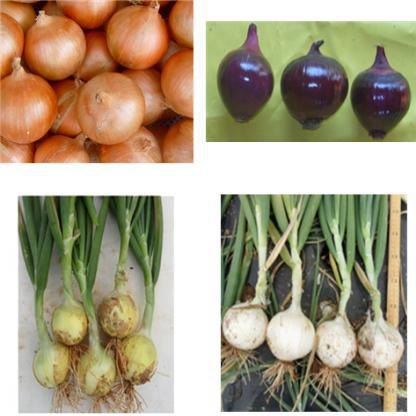onion: (74, 73, 150, 146), (4, 69, 64, 161), (110, 5, 173, 70), (30, 16, 90, 83), (272, 302, 322, 362), (115, 340, 166, 386), (81, 347, 124, 396), (225, 296, 266, 347), (28, 345, 75, 389), (49, 294, 91, 343), (320, 318, 358, 369), (101, 294, 142, 334), (365, 319, 404, 361)
